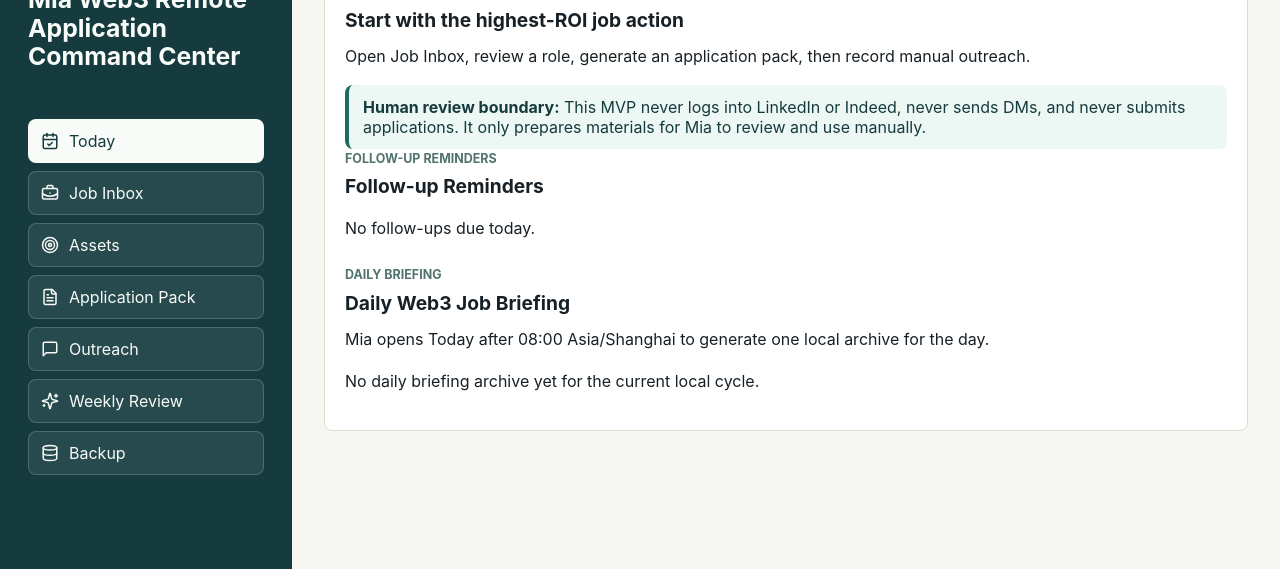
Test: App › keeps URL-only imports on the fallback risk path when semantic text is crypto-free
Click the button "Job Inbox" at x=146, y=194, box [28,172,264,216]
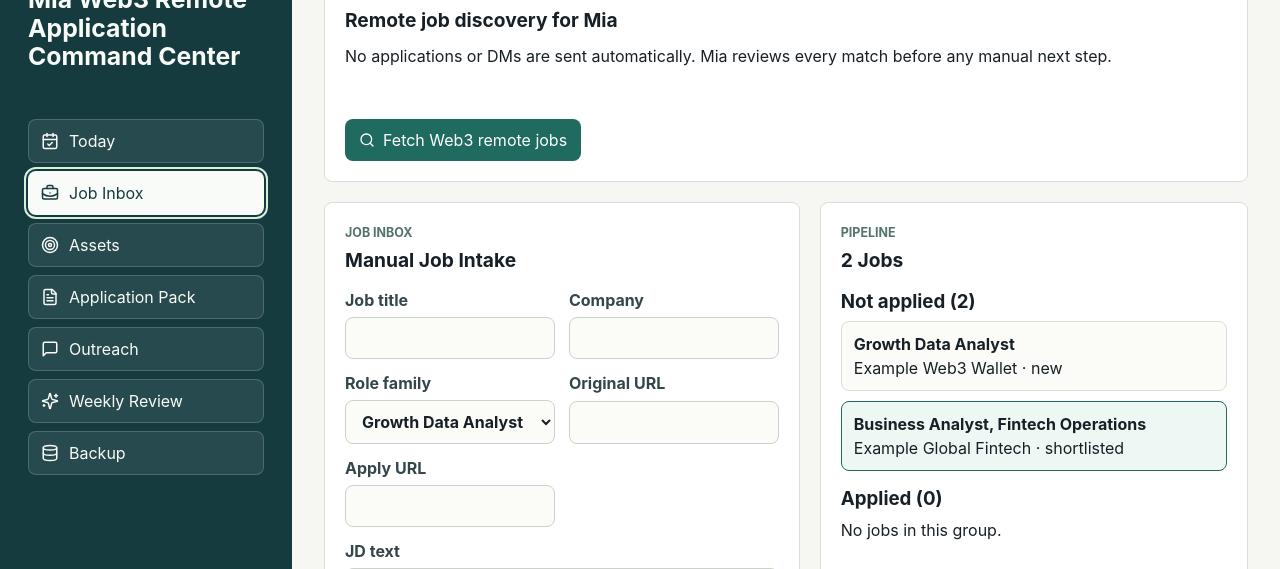
Type "https://web3careers.example.com/job/123" into the field labelled "Original URL" at x=674, y=423, box [569,402,779,444]
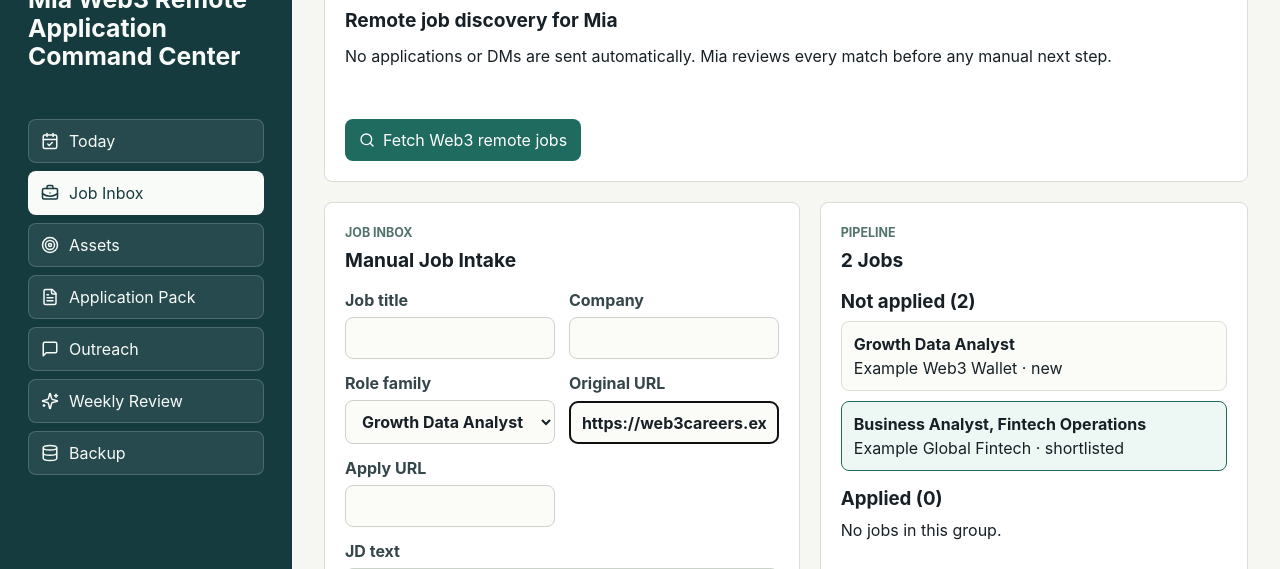
Type "https://example.com/apply/123" into the field labelled "Apply URL" at x=450, y=506, box [345,486,555,528]
(page scrolled)
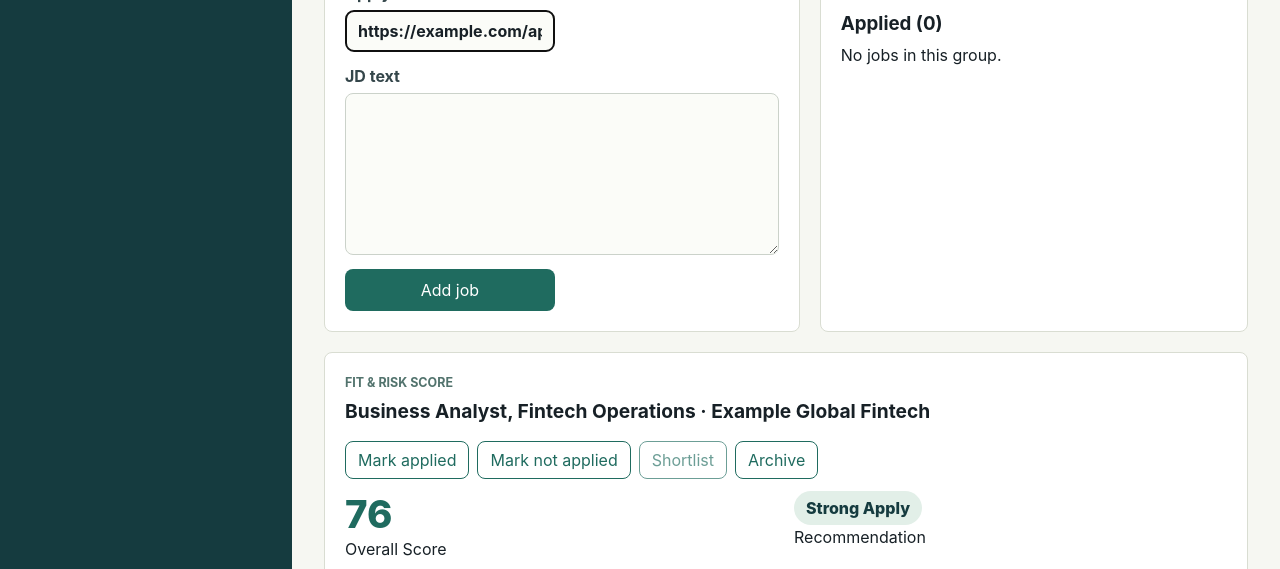
Click the button "Add job" at x=450, y=290, box [345,270,555,312]
(page scrolled)
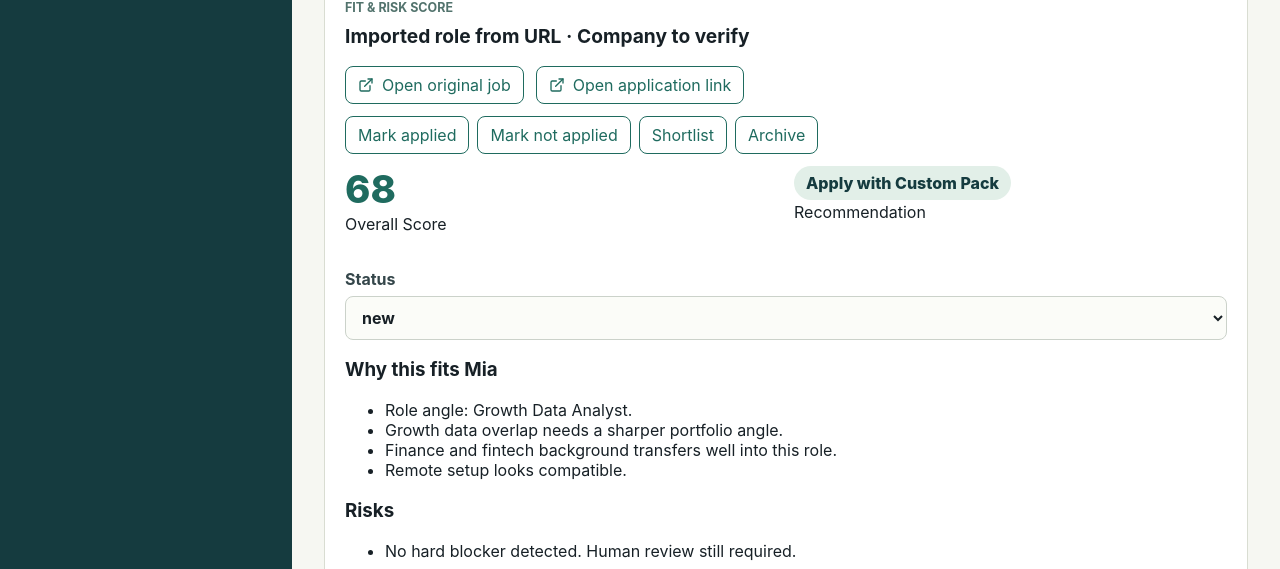
Expected: the list item "No hard blocker detected. Human review still required." is shown, [385,540,796,560]
Expected: the heading "Imported role from URL · Company to verify" is shown, [345,24,750,48]
